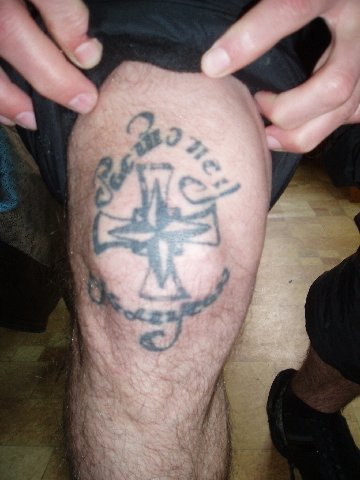tatu4_zvezda: (90, 161, 225, 303)
